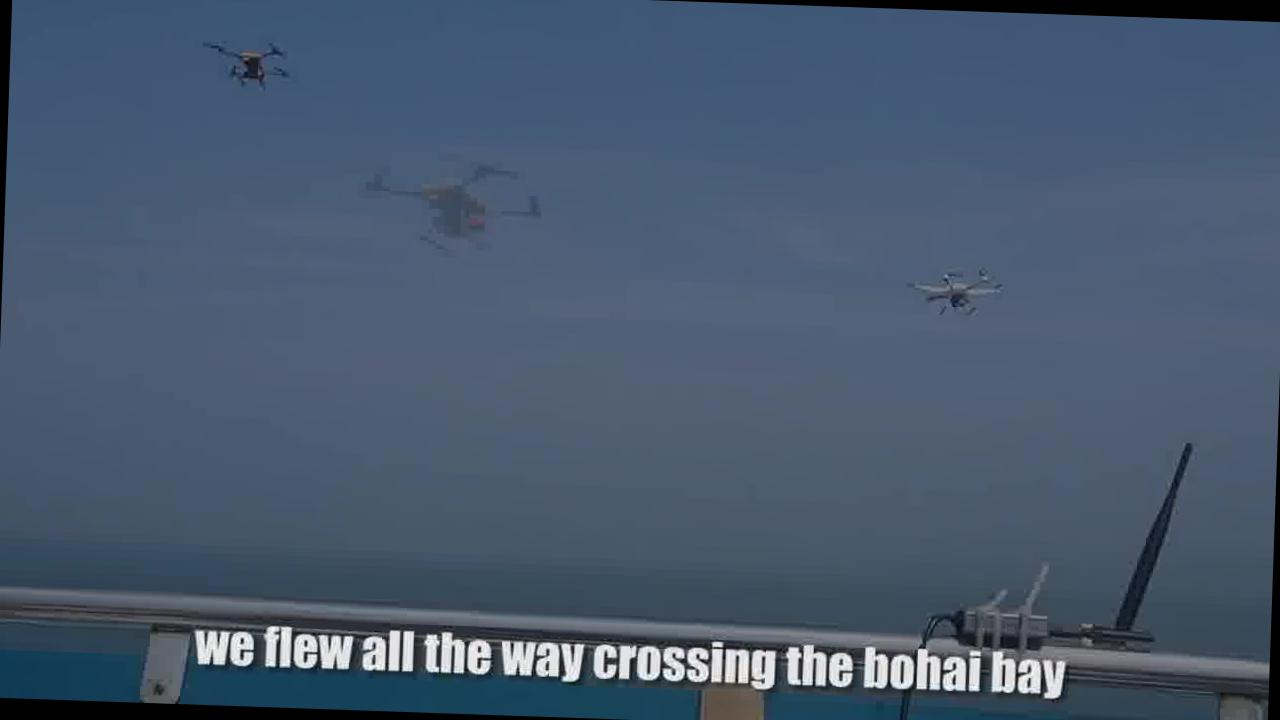drone: (901, 258, 1008, 322), (200, 34, 297, 92)
